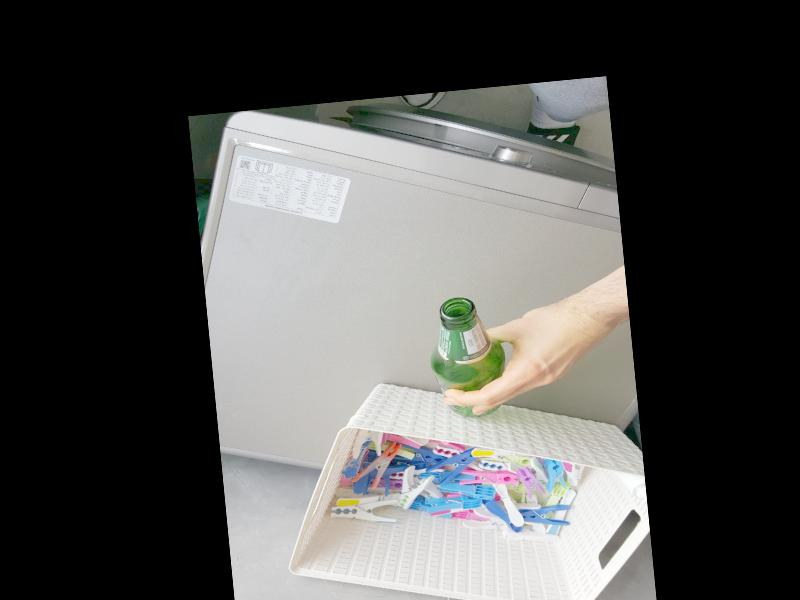Beer: (424, 293, 509, 420)
